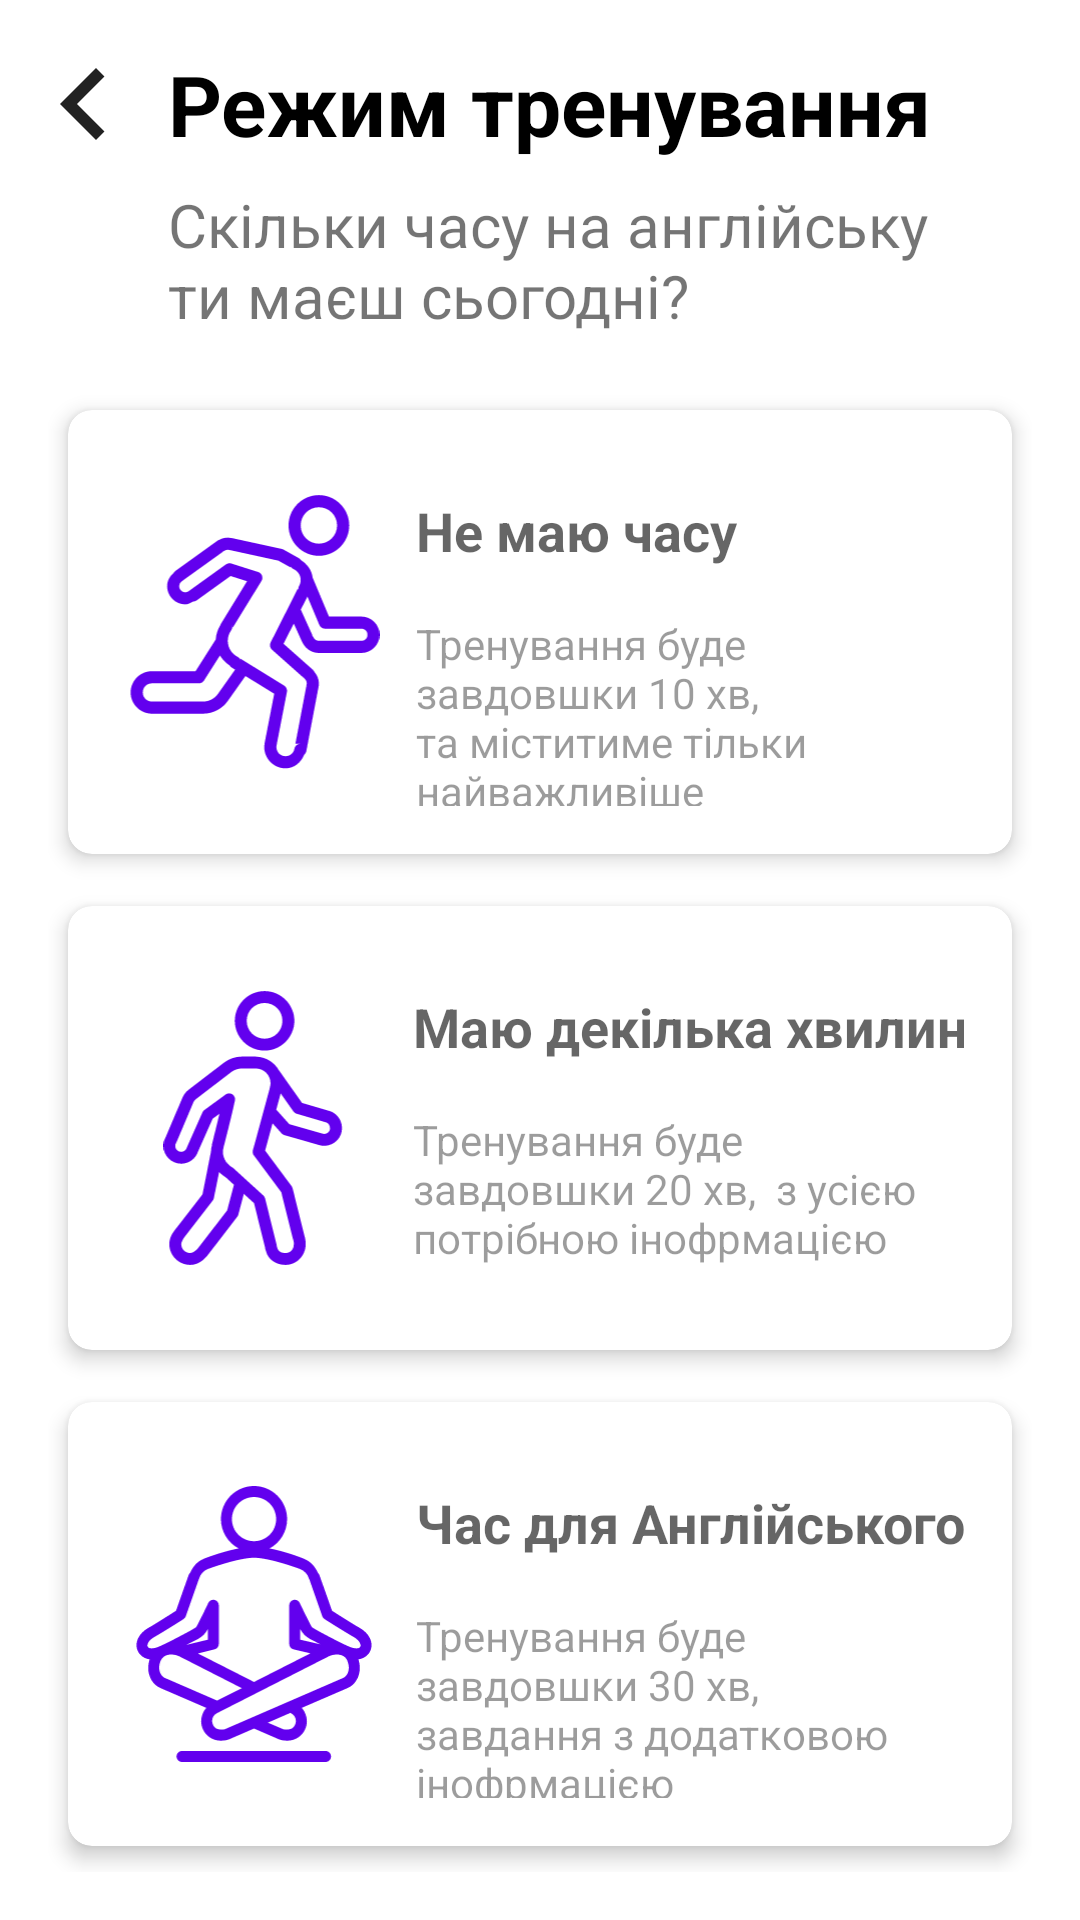

Where to tap for icons on this 1080×1920 app screen, as (x=x, y=y):
back: (x=82, y=104)
fast: (x=255, y=632)
